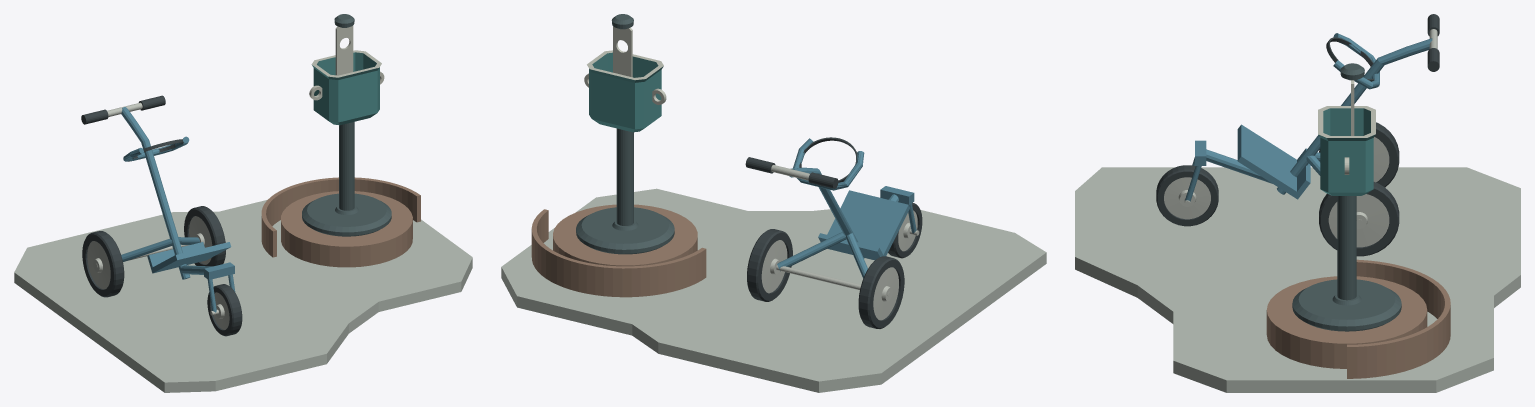
3 views of the same model, side by side, from view 1: azimuth 30°, elevation 25°; view 2: azimuth 150°, elevation 25°; view 3: azimuth 270°, elevation 25° (orthographic). The views are drawn at different scales.
Parts seen in each view (by area): view 1: SceneWholeAsymmetricLobedServiceDeck, SceneWholeRaisedCircularWasherDais, WholeBulgedRectangularOpenTank, SceneWholeOpenFrontSemicircularLowRearWall, WholeBroadSteppedPedestalFoot, WholeInclinedSpineAndReturnedPushNeck, WholeRearLeftFlatFacetTire, WholeTallCappedPost, WholeLowerBagToeTrayAndBackReturn, WholeRearRightFlatFacetTire, WholeFrontFlatFacetTire, WholeRearLeftSteppedHubDisc (+5 smaller); view 2: SceneWholeAsymmetricLobedServiceDeck, SceneWholeOpenFrontSemicircularLowRearWall, WholeBulgedRectangularOpenTank, SceneWholeRaisedCircularWasherDais, WholeLowerBagToeTrayAndBackReturn, WholeBroadSteppedPedestalFoot, WholeTallCappedPost, WholeRearLeftFlatFacetTire, WholeRearRightFlatFacetTire, WholeRearLeftSteppedHubDisc, WholeRearRightSteppedHubDisc, WholeRaisedEyeAndLongFlatPlunger (+5 smaller); view 3: SceneWholeAsymmetricLobedServiceDeck, SceneWholeRaisedCircularWasherDais, SceneWholeOpenFrontSemicircularLowRearWall, WholeBulgedRectangularOpenTank, WholeBroadSteppedPedestalFoot, WholeLowerBagToeTrayAndBackReturn, WholeTallCappedPost, WholeRearRightFlatFacetTire, WholeRearRightSteppedHubDisc, WholeFrontFlatFacetTire, WholeInclinedSpineAndReturnedPushNeck, WholeFrontSteppedHubDisc (+4 smaller).
Boxes of the visible parts, left/top/right/bottom form: SceneWholeAsymmetricLobedServiceDeck: left=14, top=200, right=472, bottom=392; SceneWholeRaisedCircularWasherDais: left=281, top=191, right=412, bottom=267; WholeBulgedRectangularOpenTank: left=311, top=50, right=381, bottom=125; SceneWholeOpenFrontSemicircularLowRearWall: left=261, top=177, right=420, bottom=257; WholeBroadSteppedPedestalFoot: left=302, top=193, right=391, bottom=236; WholeInclinedSpineAndReturnedPushNeck: left=121, top=107, right=190, bottom=279; WholeRearLeftFlatFacetTire: left=82, top=231, right=124, bottom=297; WholeTallCappedPost: left=339, top=122, right=354, bottom=210; WholeLowerBagToeTrayAndBackReturn: left=147, top=242, right=231, bottom=273; WholeRearRightFlatFacetTire: left=184, top=206, right=225, bottom=266; WholeFrontFlatFacetTire: left=207, top=284, right=242, bottom=336; WholeRearLeftSteppedHubDisc: left=87, top=241, right=110, bottom=289; SceneWholeAsymmetricLobedServiceDeck: left=501, top=188, right=1046, bottom=392; SceneWholeOpenFrontSemicircularLowRearWall: left=531, top=209, right=706, bottom=297; WholeBulgedRectangularOpenTank: left=587, top=50, right=663, bottom=132; SceneWholeRaisedCircularWasherDais: left=553, top=204, right=697, bottom=266; WholeLowerBagToeTrayAndBackReturn: left=818, top=190, right=909, bottom=260; WholeBroadSteppedPedestalFoot: left=576, top=207, right=674, bottom=254; WholeTallCappedPost: left=616, top=128, right=633, bottom=225; WholeRearLeftFlatFacetTire: left=858, top=256, right=904, bottom=328; WholeRearRightFlatFacetTire: left=747, top=229, right=792, bottom=301; WholeRearLeftSteppedHubDisc: left=873, top=267, right=898, bottom=320; WholeRearRightSteppedHubDisc: left=761, top=240, right=787, bottom=293; WholeRaisedEyeAndLongFlatPlunger: left=613, top=26, right=632, bottom=77; SceneWholeAsymmetricLobedServiceDeck: left=1075, top=167, right=1520, bottom=392; SceneWholeRaisedCircularWasherDais: left=1266, top=276, right=1427, bottom=368; SceneWholeOpenFrontSemicircularLowRearWall: left=1347, top=259, right=1450, bottom=378; WholeBulgedRectangularOpenTank: left=1318, top=106, right=1375, bottom=195; WholeBroadSteppedPedestalFoot: left=1292, top=279, right=1401, bottom=331; WholeLowerBagToeTrayAndBackReturn: left=1237, top=124, right=1310, bottom=199; WholeTallCappedPost: left=1337, top=196, right=1356, bottom=300; WholeRearRightFlatFacetTire: left=1319, top=182, right=1399, bottom=256; WholeRearRightSteppedHubDisc: left=1328, top=194, right=1389, bottom=247; WholeFrontFlatFacetTire: left=1156, top=165, right=1218, bottom=226; WholeInclinedSpineAndReturnedPushNeck: left=1277, top=38, right=1432, bottom=194; WholeFrontSteppedHubDisc: left=1164, top=177, right=1210, bottom=219.
Size of the model in its own units: 2.26 by 1.39 by 2.
